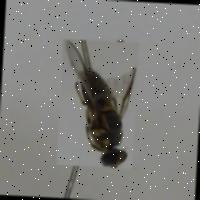Oriental-fruit-fly: (56, 39, 138, 169)
